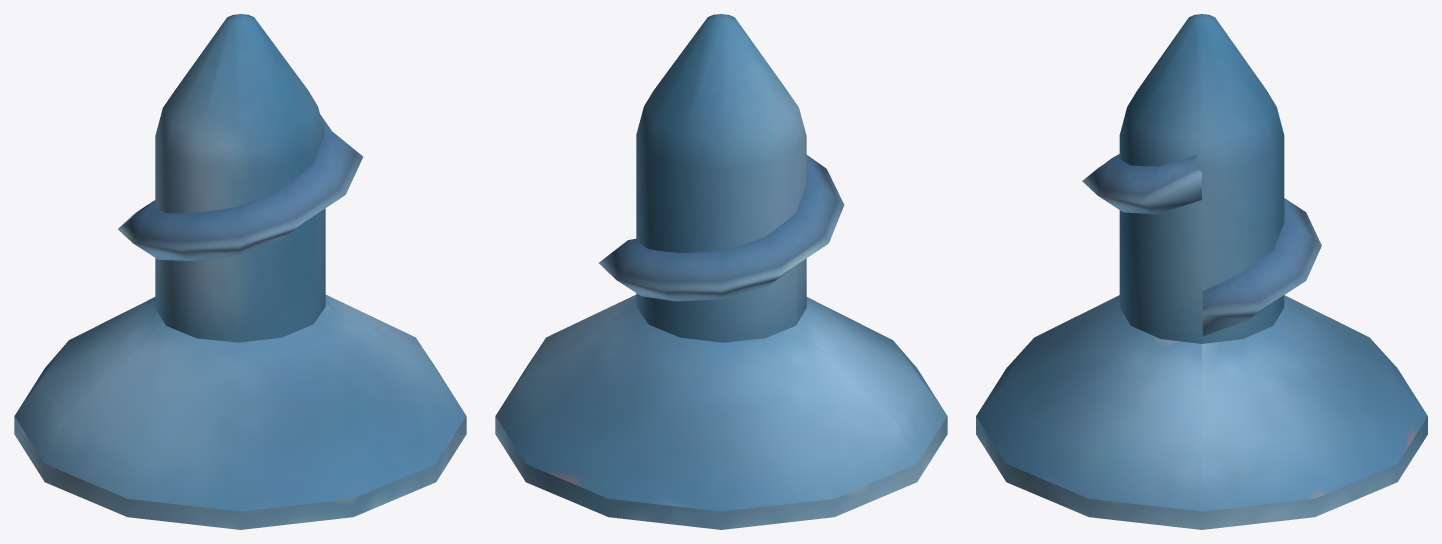
Rendered from luosi04.FBX.
3 renders of one model, left to right at view 1: azimuth 30°, elevation 25°; view 2: azimuth 150°, elevation 25°; view 3: azimuth 270°, elevation 25°, orthographic.
Parts seen in each view (by area): view 1: luosi04; view 2: luosi04; view 3: luosi04.
Boxes of the visible parts, x1,y1,x2,y2 form: luosi04: (14,14,466,529); luosi04: (495,14,947,529); luosi04: (976,14,1427,529).
Bounding box in the file's own units: 8.18 × 8.4 × 8.18.
